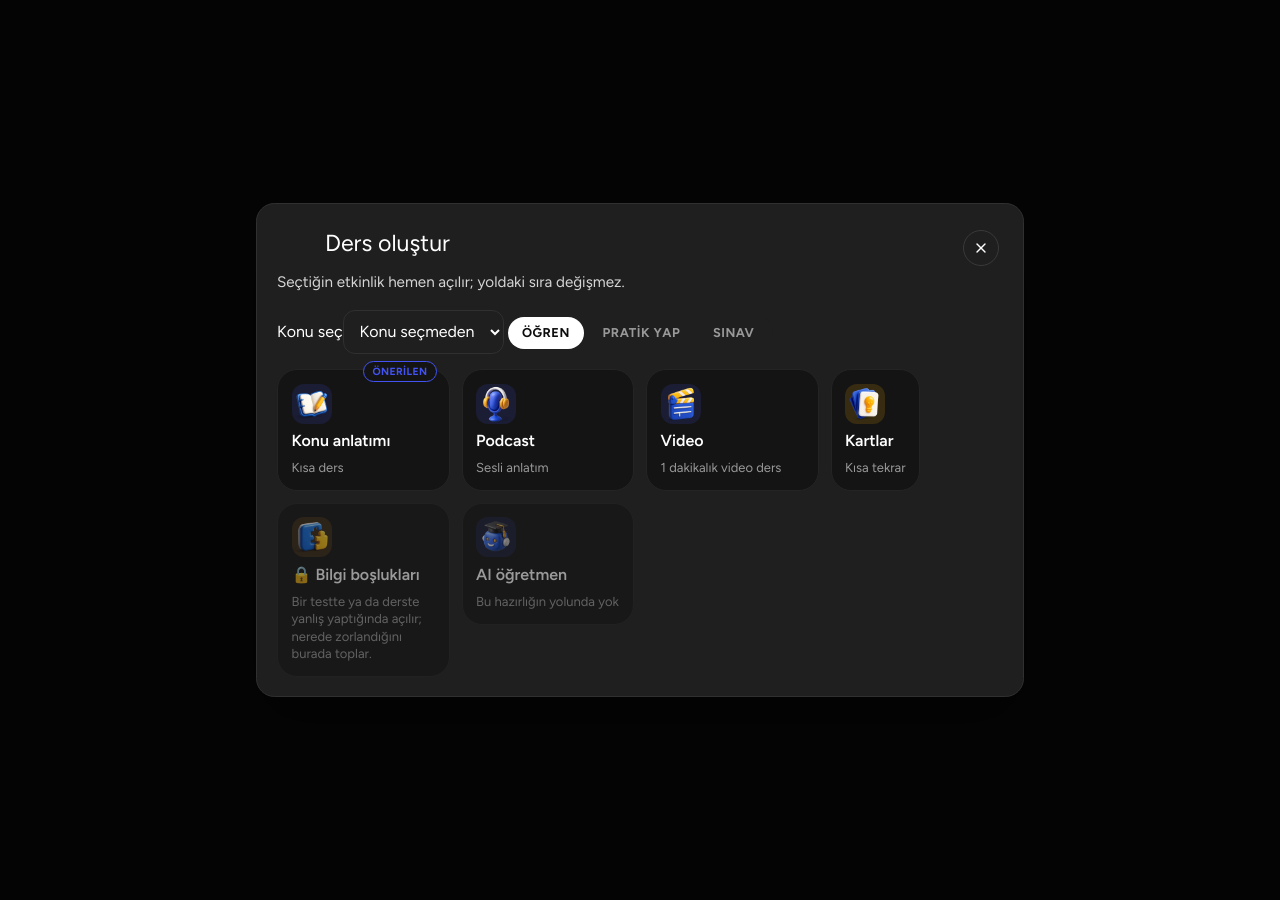
Ders oluştur penceresi: düğümü olmayan etkinlik kurulur › konu seçilmeden oluşturma istenirse önce konu sorulur
Click the tab "Pratik yap" at (641, 333), box [588, 317, 695, 349]
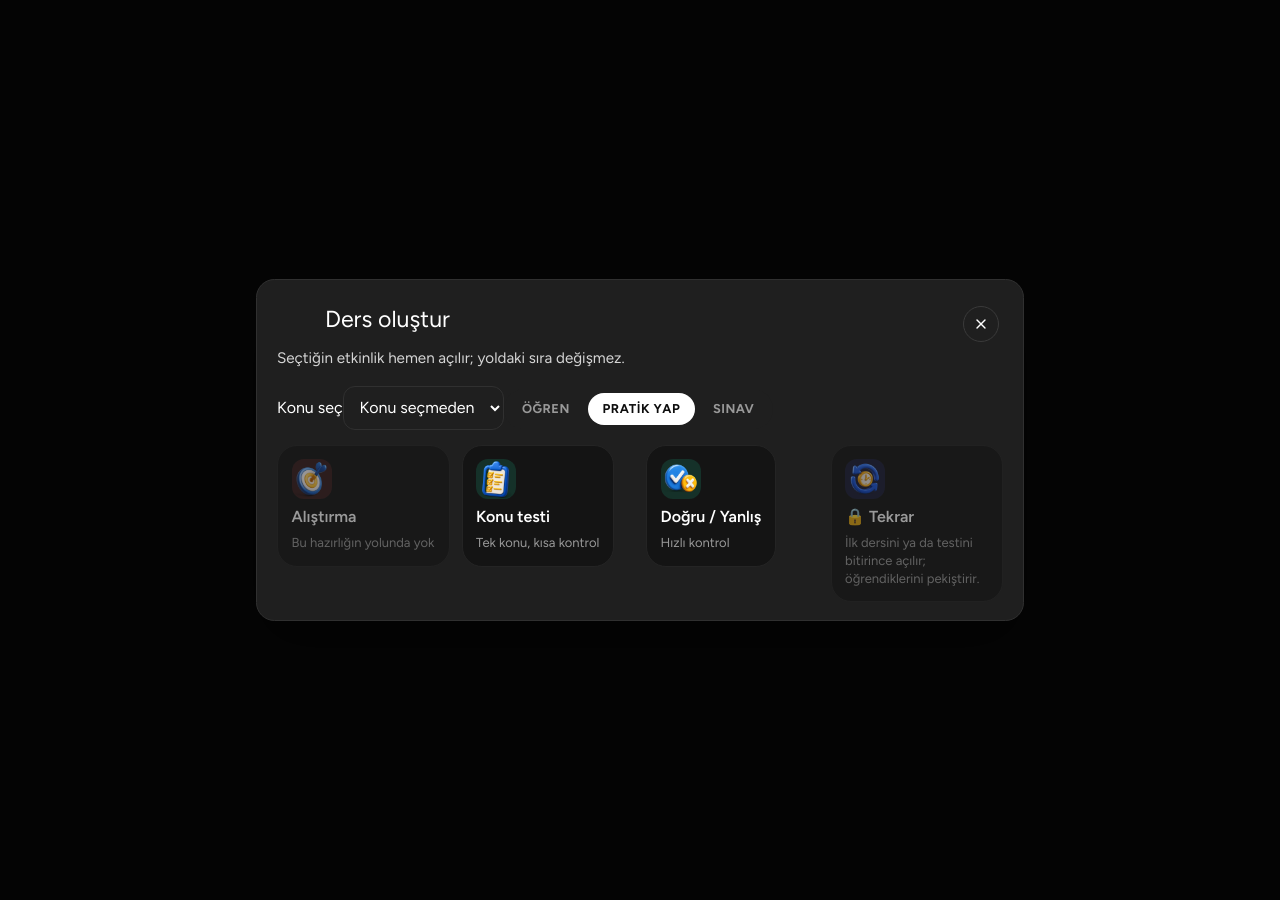
Click the button "Konu testi Tek konu, kısa kontrol" at (538, 506), box [462, 445, 614, 567]
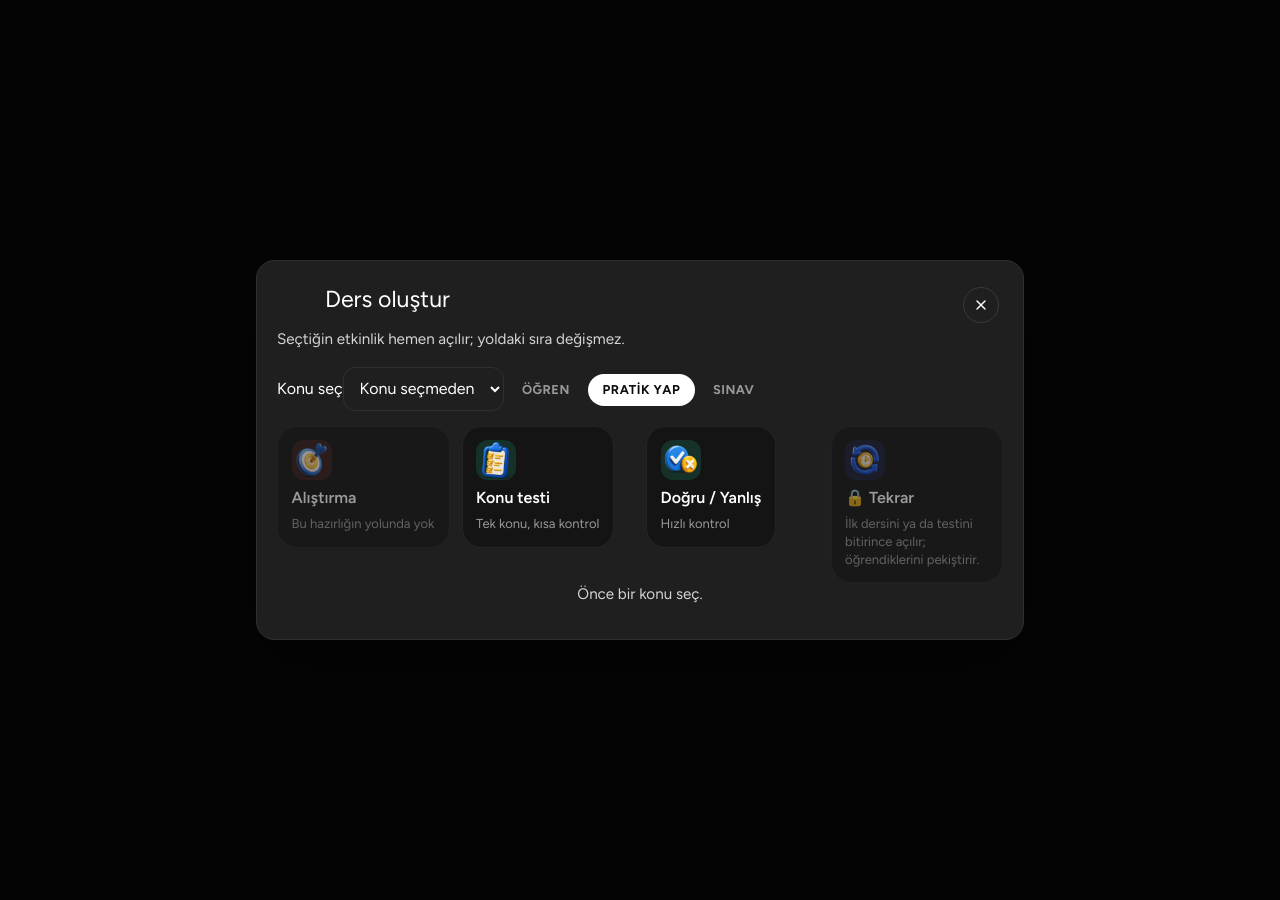
Now the message reads "Önce bir konu seç.", box [577, 585, 703, 603]
